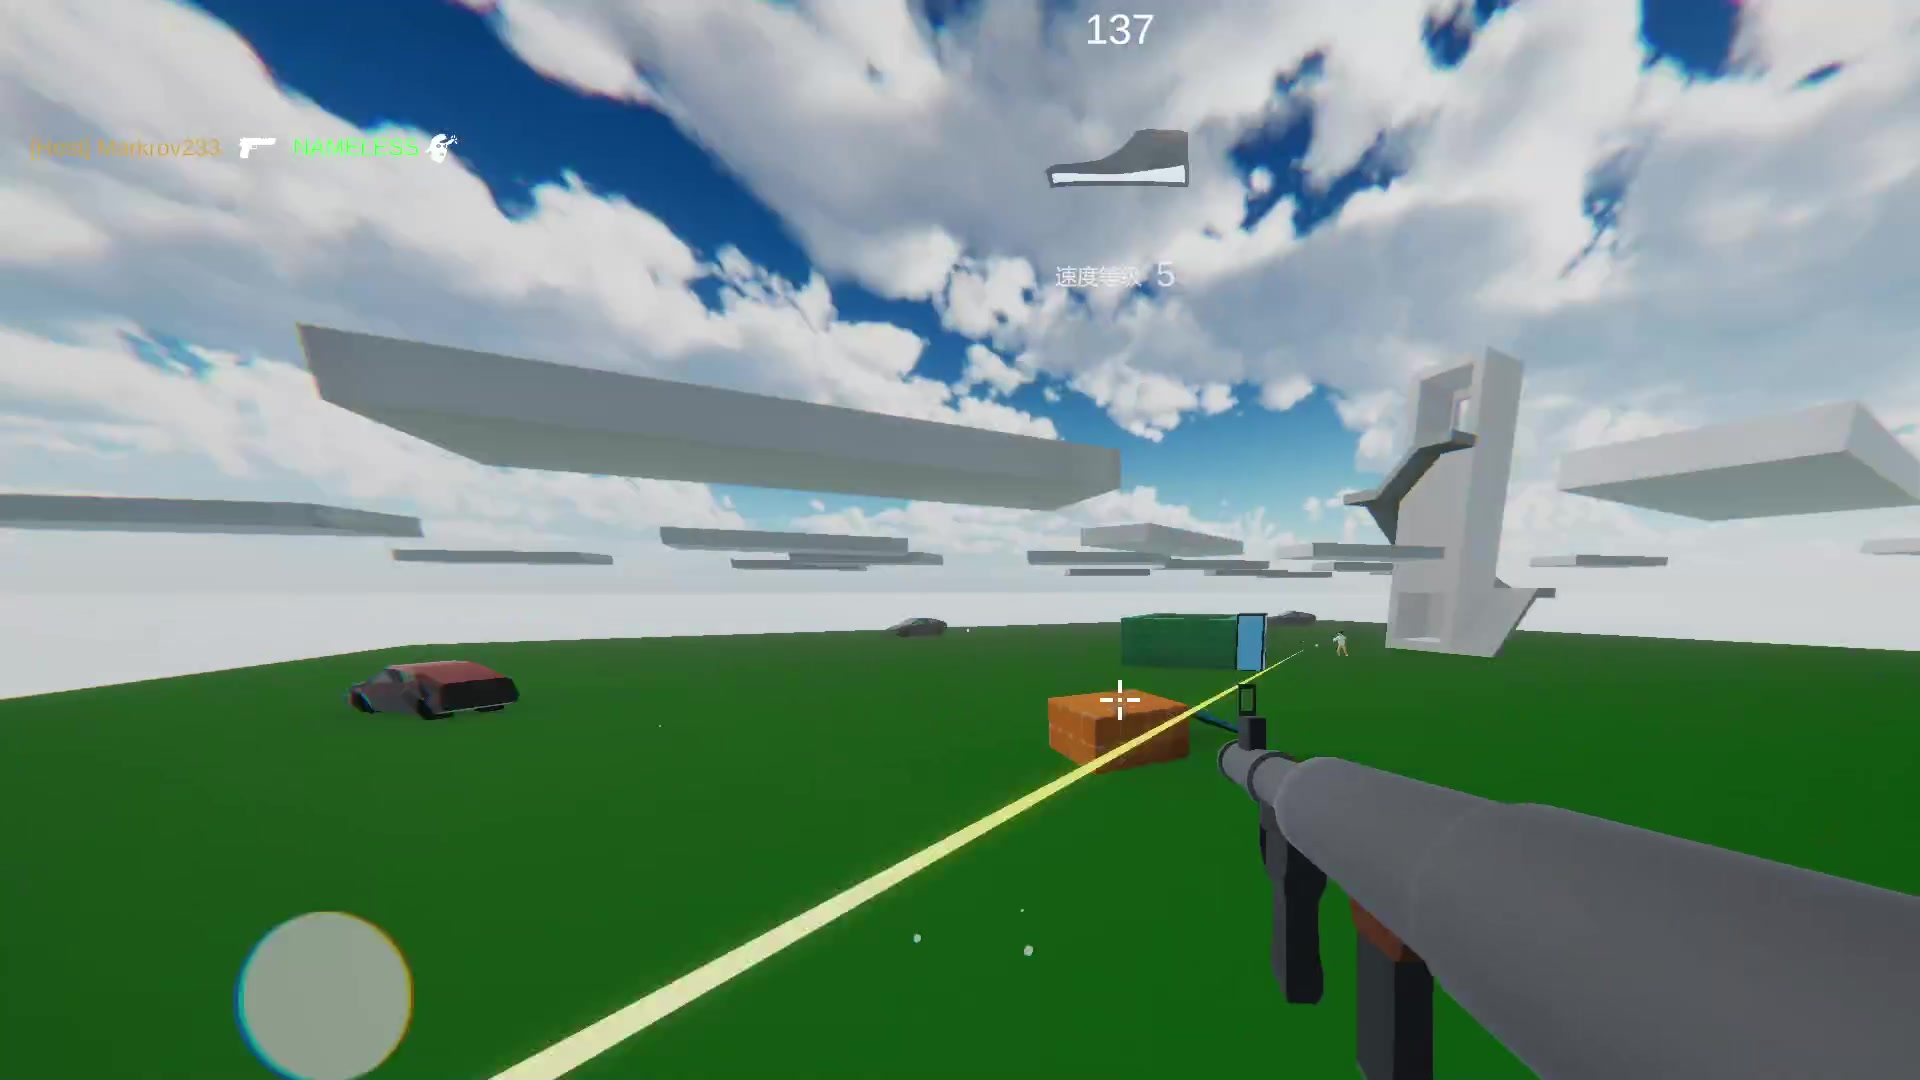human: (1333, 627, 1348, 660)
